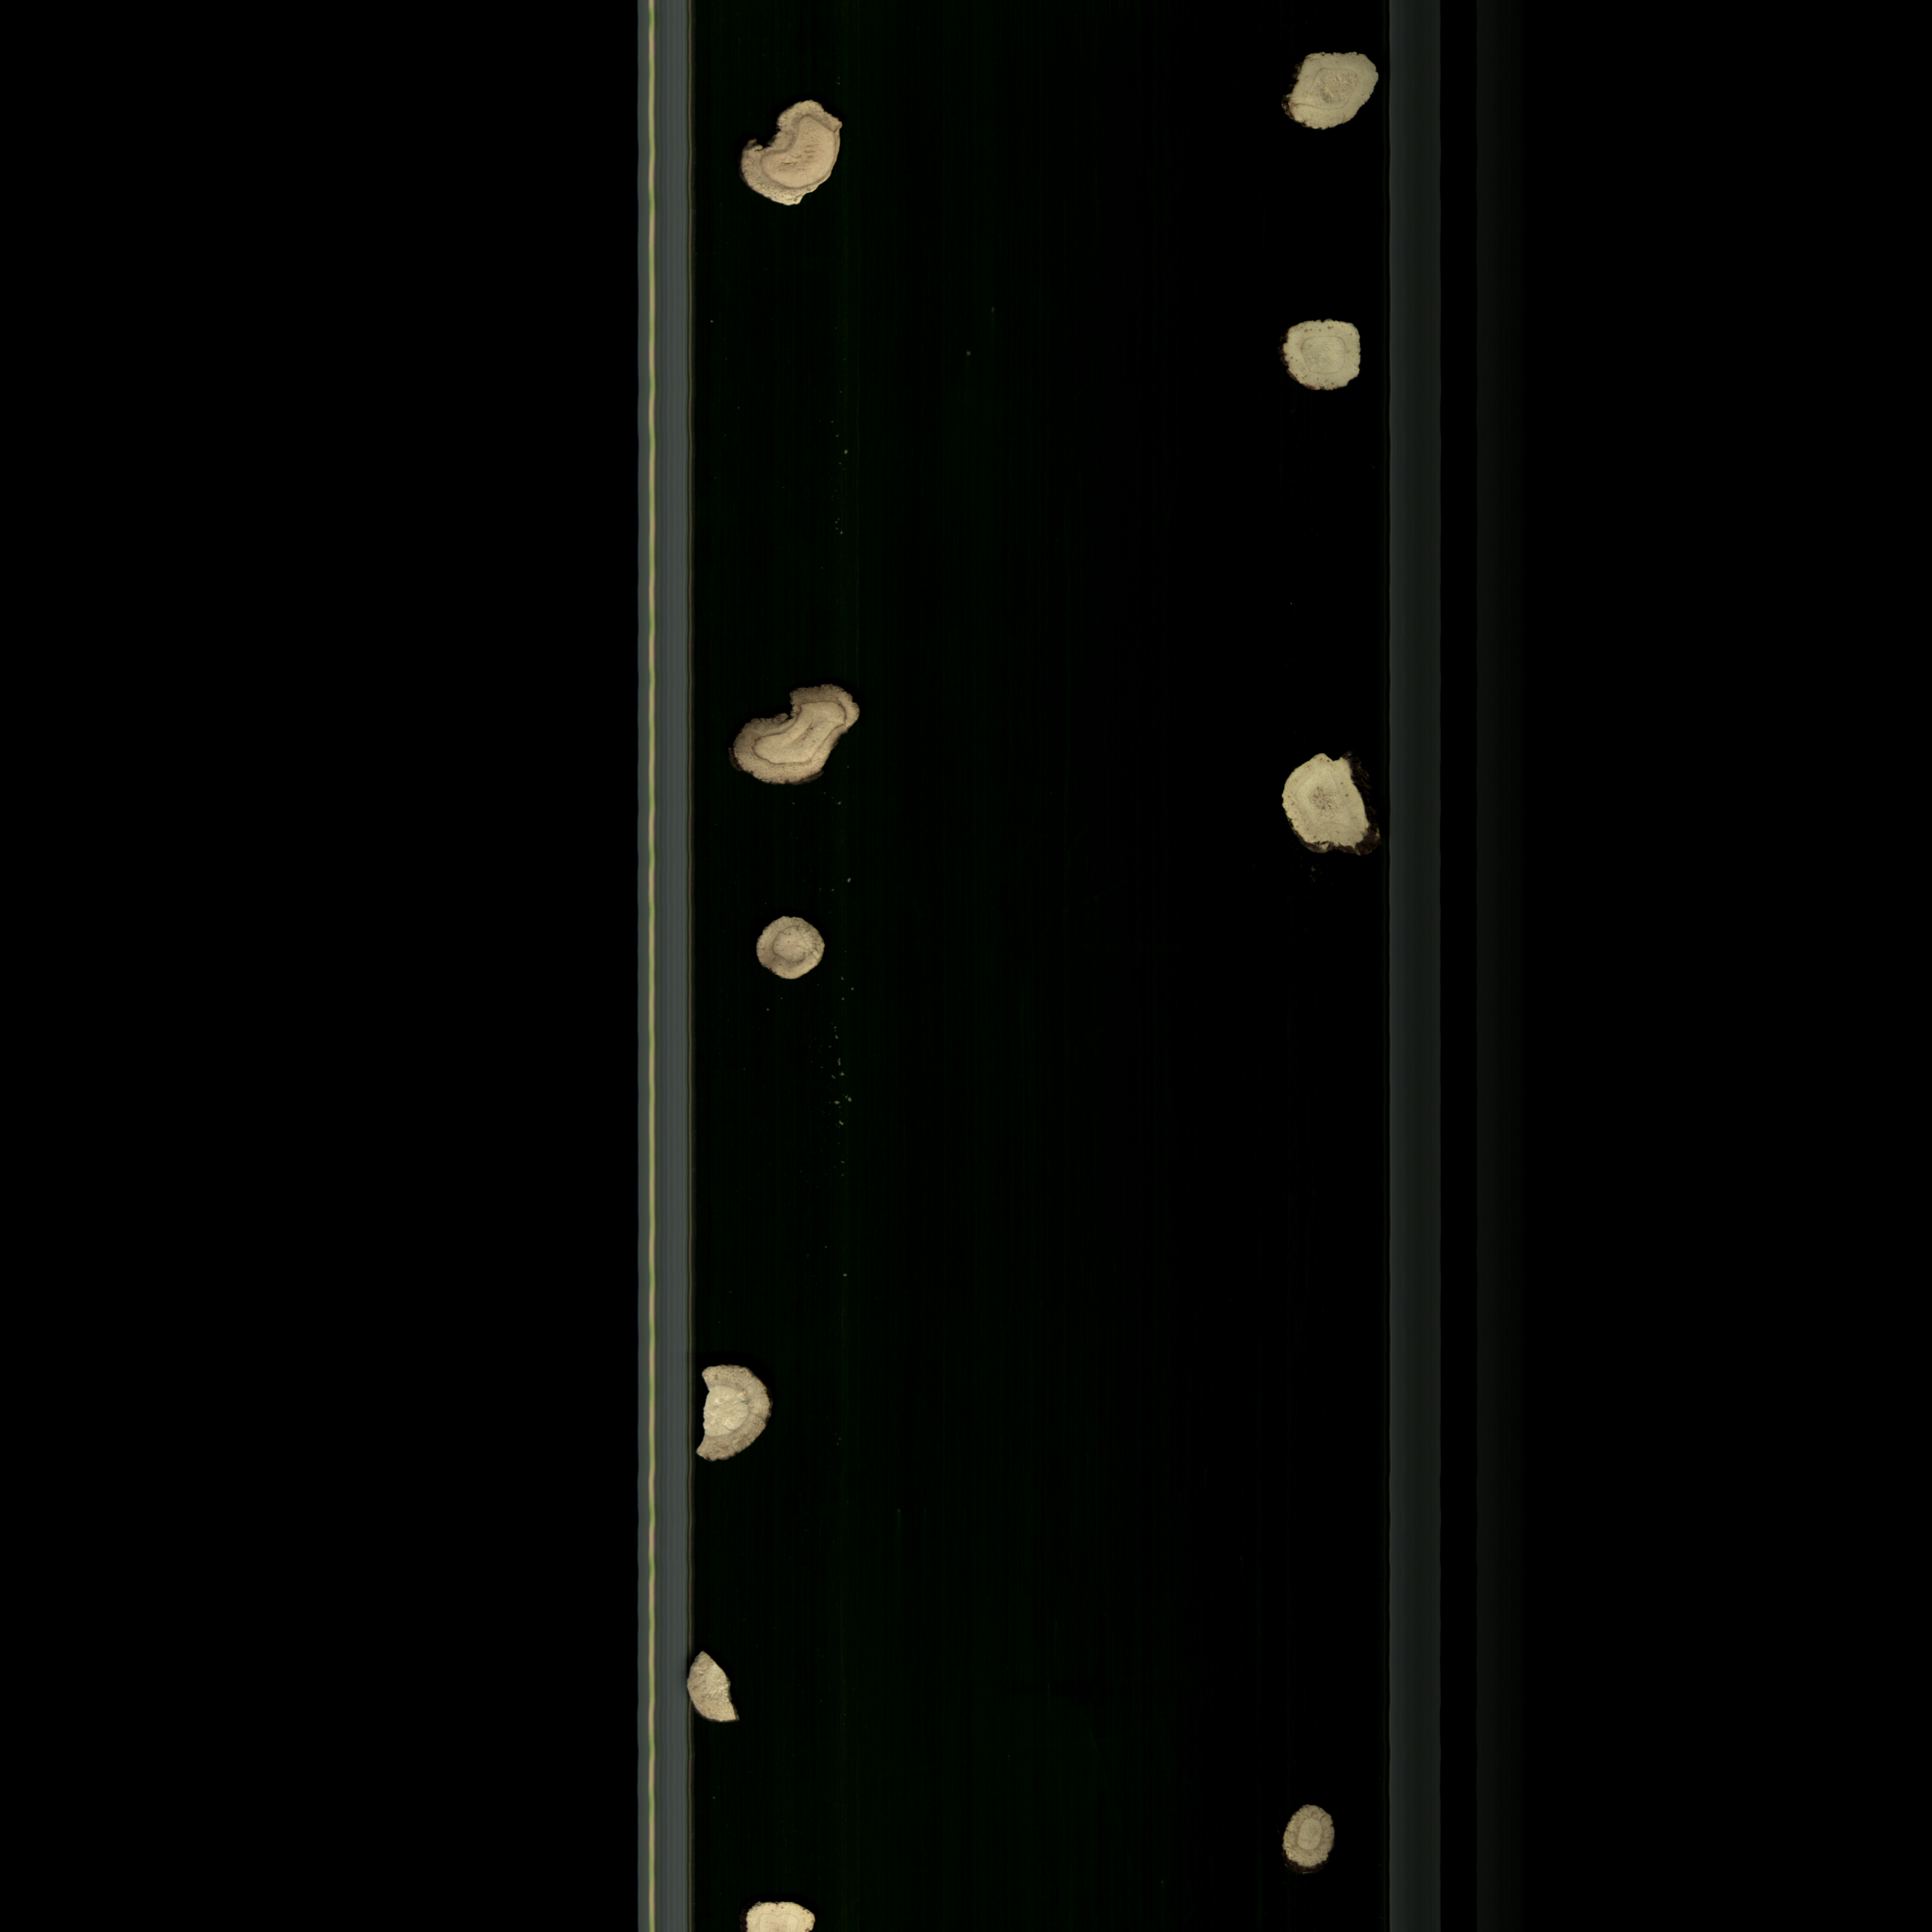debris: (1274, 747, 1380, 872), (688, 1357, 777, 1481), (686, 1645, 757, 1743)
distortion: (1277, 41, 1387, 147), (1279, 311, 1371, 398)
moldy: (725, 669, 865, 801), (727, 88, 855, 226)
